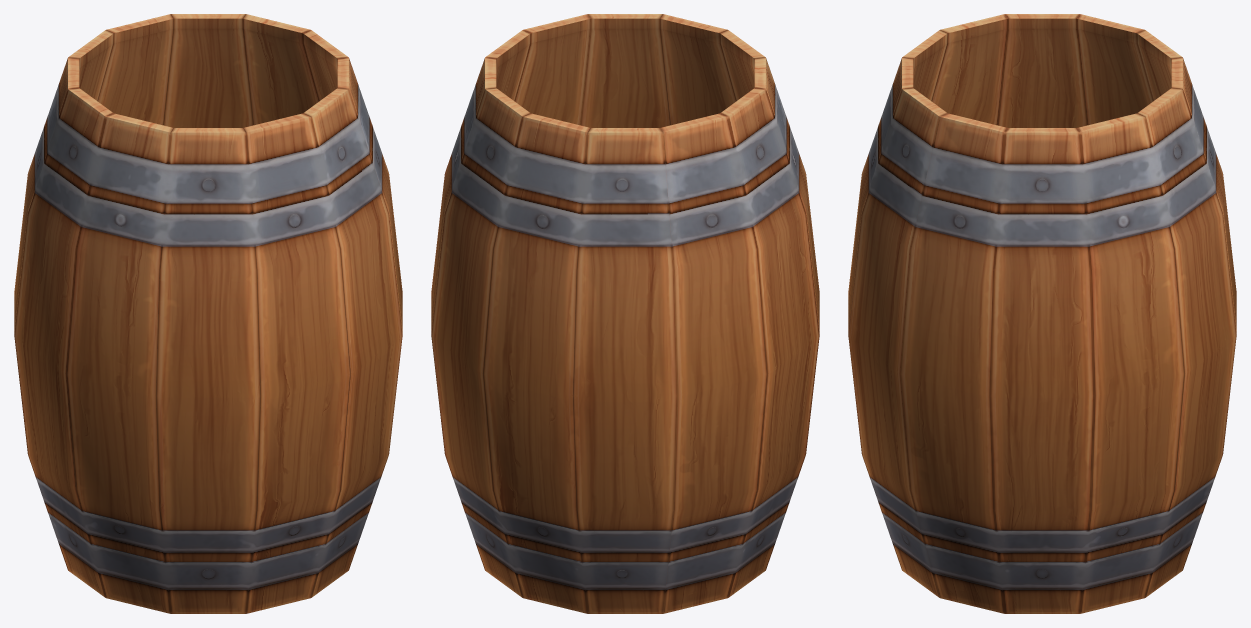
Rendered from BarrelWooden01_4.FBX.
The picture shows the model from 3 angles, left to right: view 1: azimuth 30°, elevation 25°; view 2: azimuth 150°, elevation 25°; view 3: azimuth 270°, elevation 25°; orthographic projection.
Visible parts, largest first — view 1: BarrelWooden01_4; view 2: BarrelWooden01_4; view 3: BarrelWooden01_4.
Part boxes in pixels (bbox=[...]): BarrelWooden01_4: bbox=[14, 14, 402, 613]; BarrelWooden01_4: bbox=[431, 14, 819, 613]; BarrelWooden01_4: bbox=[848, 14, 1236, 613].
Size of what is drawn, in the model's own units: 0.7252 by 0.9919 by 0.7252.
